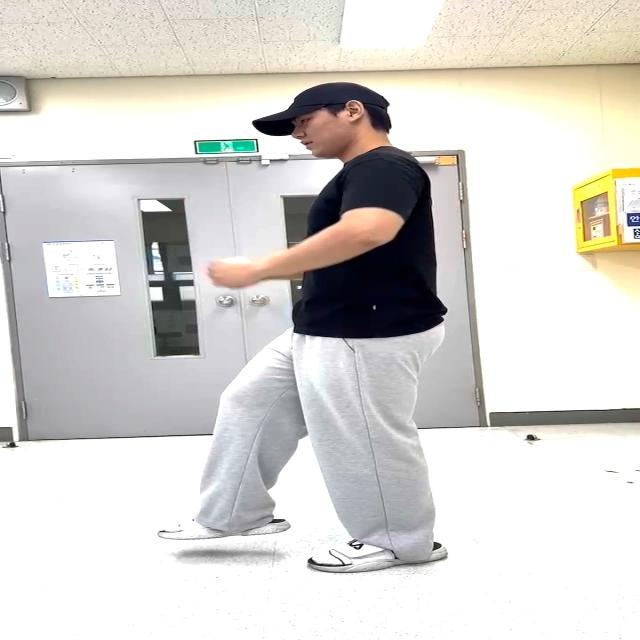leg: (154, 344, 292, 539)
